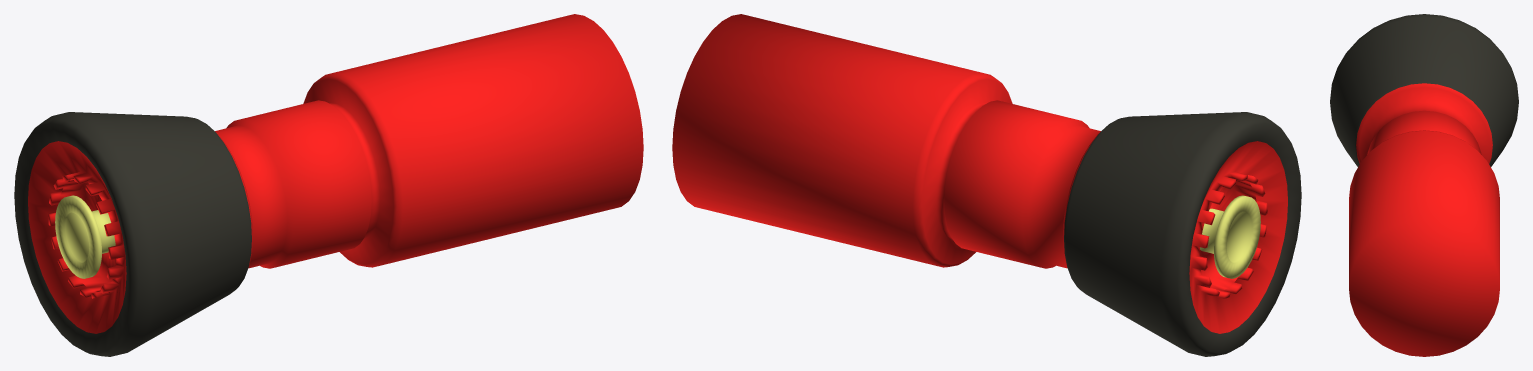
The model's file is HoseHead.fbx.
3 renders of one model, left to right at view 1: azimuth 30°, elevation 25°; view 2: azimuth 150°, elevation 25°; view 3: azimuth 270°, elevation 25°, orthographic. The views are drawn at different scales.
Visible parts, largest first — view 1: Cylinder; view 2: Cylinder; view 3: Cylinder.
Part boxes in pixels (box(x1,y1,x2,y2)): Cylinder: box(14, 14, 643, 356); Cylinder: box(672, 14, 1301, 356); Cylinder: box(1330, 14, 1518, 356).
Bounding box in the file's own units: 1289 × 534 × 534.
